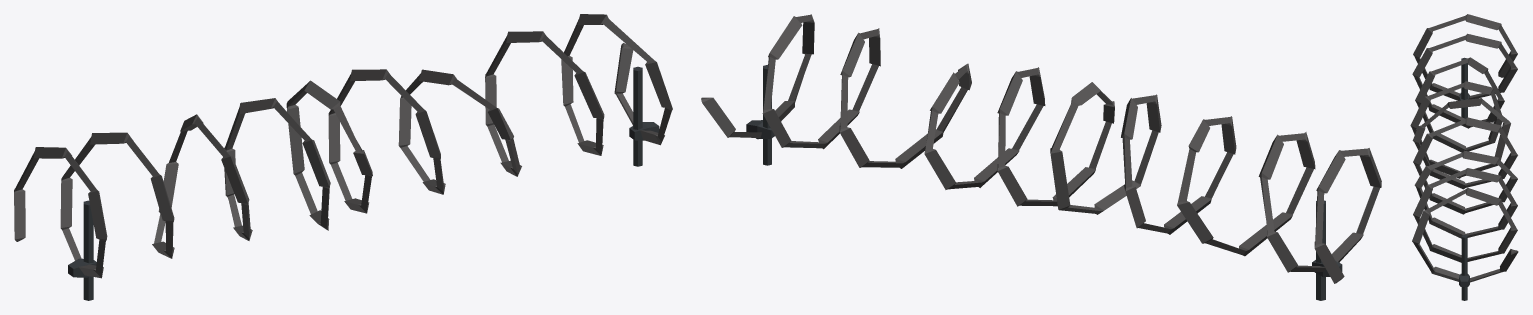
Rendered from SM_Prop_RazorWire_01.fbx.
3 views of the same model, side by side, from view 1: azimuth 30°, elevation 25°; view 2: azimuth 150°, elevation 25°; view 3: azimuth 270°, elevation 25° (orthographic). The views are drawn at different scales.
Visible parts, largest first — view 1: SM_Prop_RazorWire_01; view 2: SM_Prop_RazorWire_01; view 3: SM_Prop_RazorWire_01.
Part boxes in pixels (x1,y1,x2,y2): SM_Prop_RazorWire_01: [14, 14, 672, 300]; SM_Prop_RazorWire_01: [701, 14, 1381, 300]; SM_Prop_RazorWire_01: [1410, 14, 1518, 300].
Size of the model in its own units: 420 by 99.14 by 94.92.
